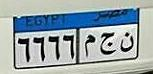6: (62, 34, 75, 59), (32, 37, 45, 61), (18, 37, 30, 62), (50, 35, 60, 60)
jeem: (100, 31, 115, 57)
meem: (83, 33, 95, 61)
noon: (120, 31, 134, 53)
